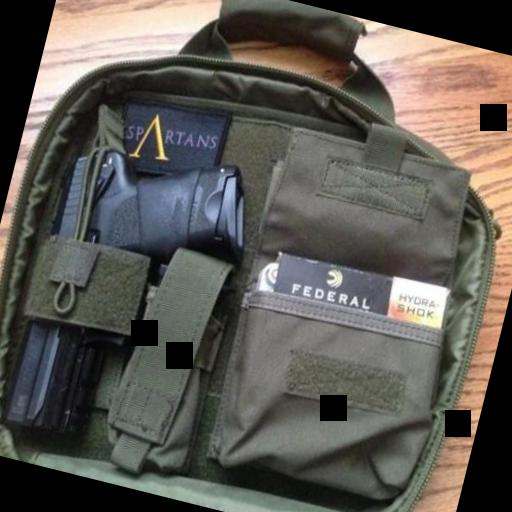Handgun: (0, 124, 258, 468)
